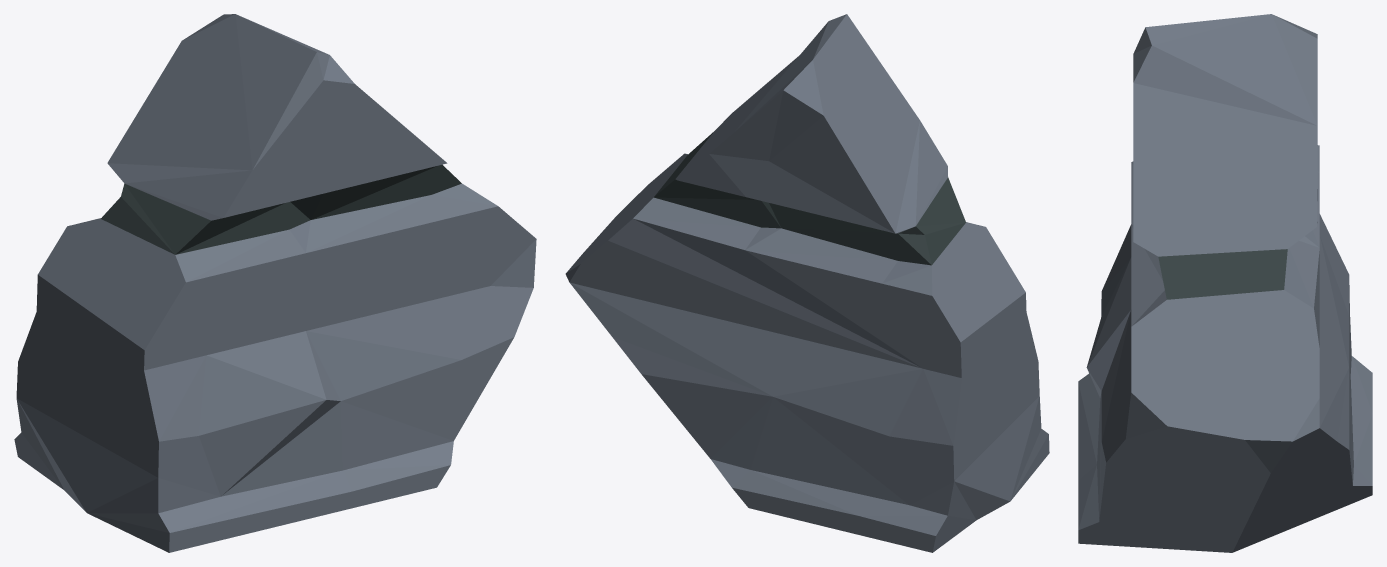
Rendered from WallPiece2.fbx.
The picture shows the model from 3 angles, left to right: view 1: azimuth 30°, elevation 25°; view 2: azimuth 150°, elevation 25°; view 3: azimuth 270°, elevation 25°; orthographic projection. The views are drawn at different scales.
Parts seen in each view (by area): view 1: WallPiece2; view 2: WallPiece2; view 3: WallPiece2.
Part boxes in pixels (box(x1,y1,x2,y2)): WallPiece2: box(14, 14, 536, 552); WallPiece2: box(565, 14, 1049, 552); WallPiece2: box(1078, 14, 1372, 552).
Bounding box in the file's own units: 221 × 212 × 120.
